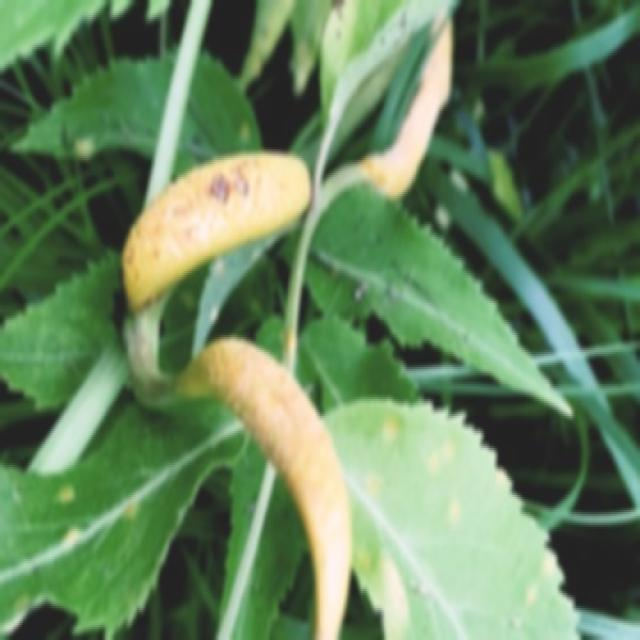Elderberry_rust: (173, 333, 353, 638), (119, 145, 311, 316)
